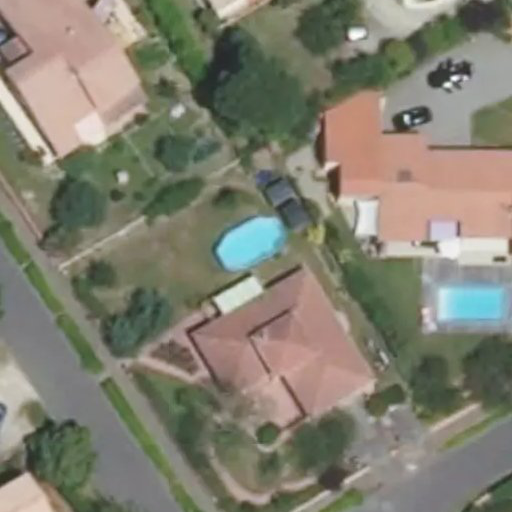pool: (215, 215, 288, 273), (435, 287, 506, 322)
